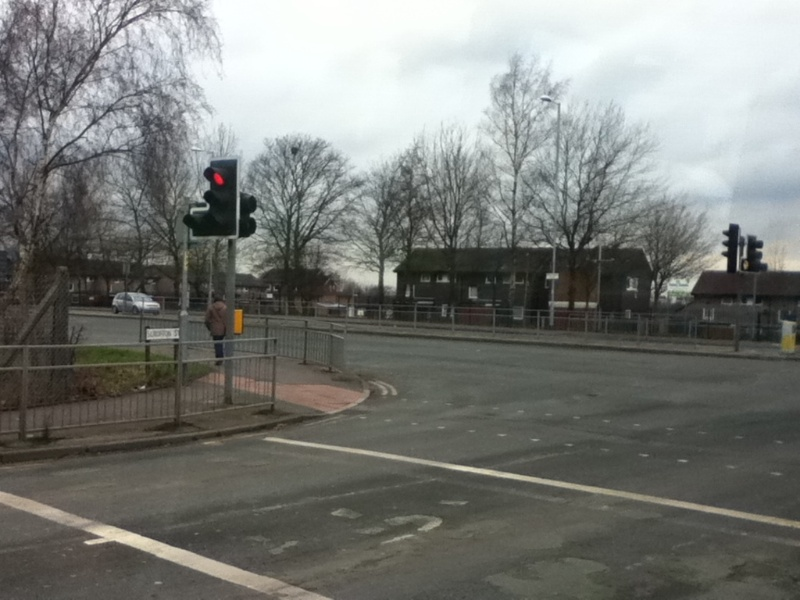red_light: (197, 163, 235, 194)
